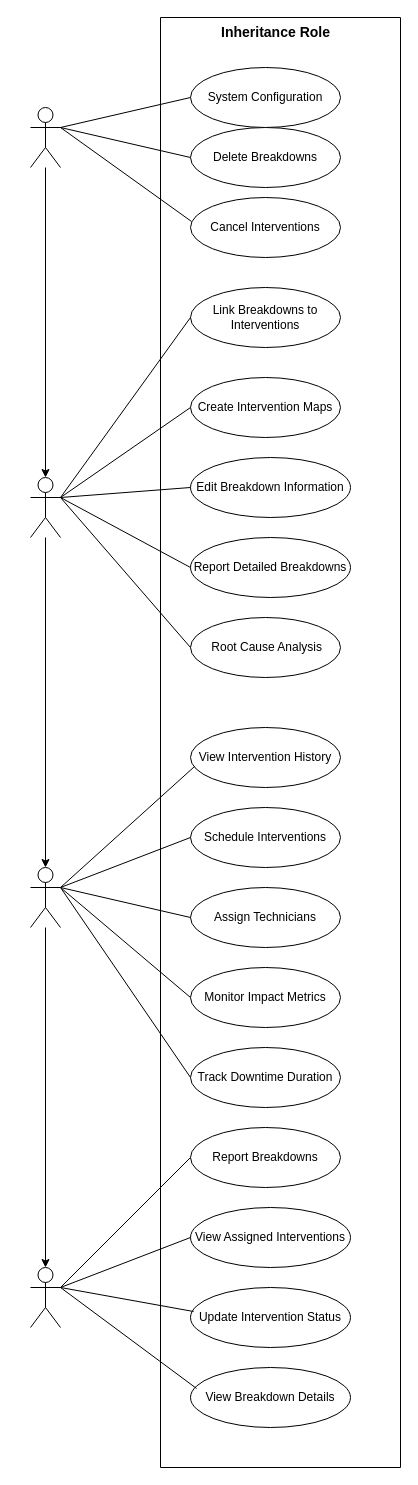
This 418x1485 diagram has some shape labels left out. The shapes that lost their labels are listed below. From the top down, each one's box as (x1, y1, x2, y2) in pixels, then its label:
(30, 106, 60, 168): Admin
(30, 476, 60, 538): Engineer
(30, 866, 60, 928): Manager
(30, 1266, 60, 1328): Technician
